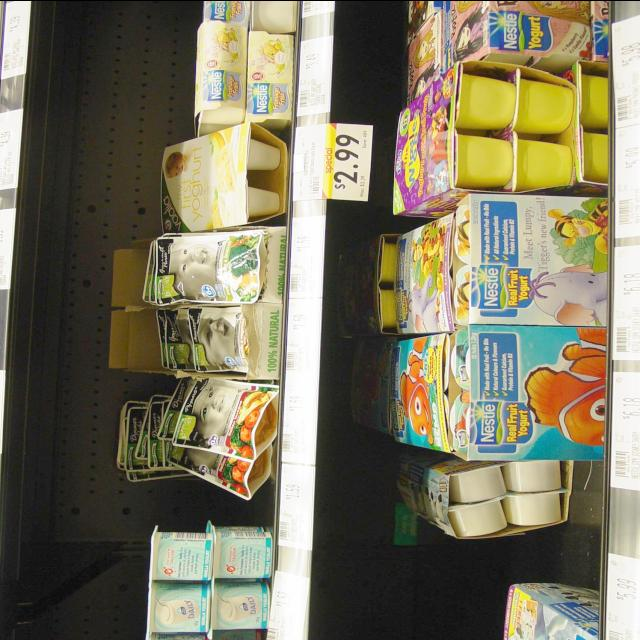empty_space: (83, 0, 187, 132), (18, 509, 136, 620), (354, 550, 482, 628)
